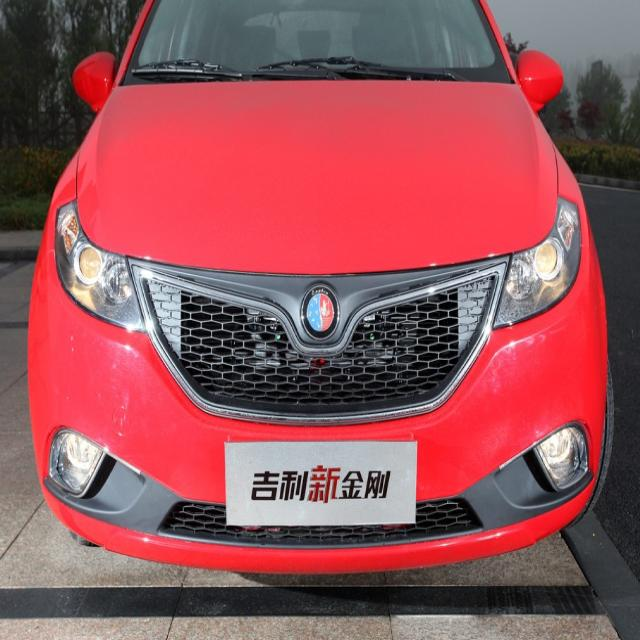front_bumper: (25, 321, 605, 568)
front_glass: (129, 0, 505, 77)
front_left_side_light: (490, 193, 582, 332)
front_left_side_mirror: (512, 46, 566, 111)
front_right_side_light: (51, 196, 147, 336)
front_right_side_mirror: (72, 46, 123, 116)
